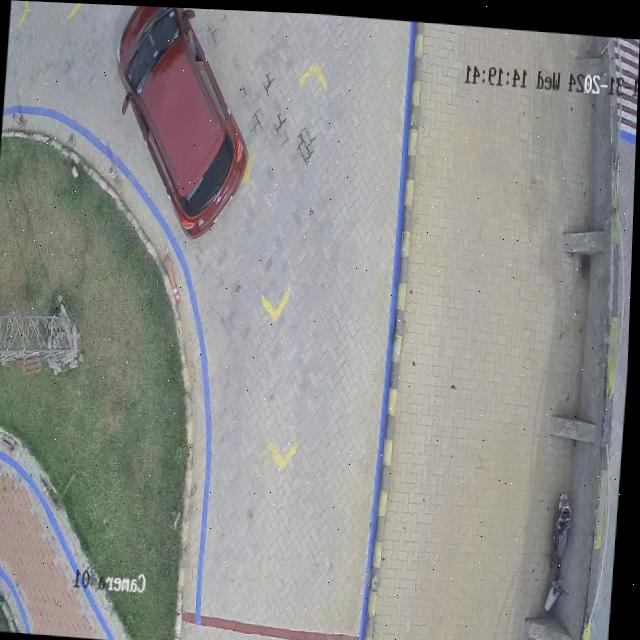car: (117, 5, 248, 236)
